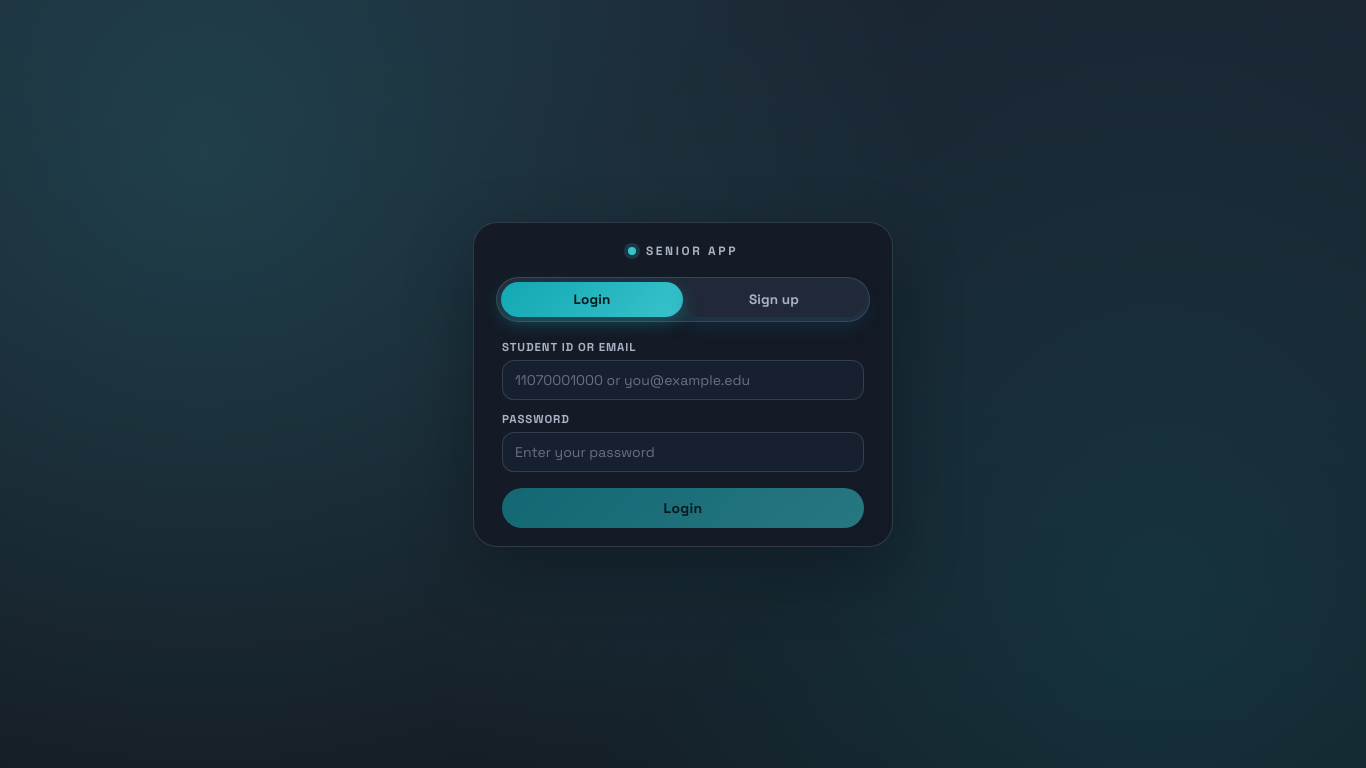
Scenario: Unified login page (issue #315) › shows a clear failure message when all email-based endpoints reject the credentials
Type "nobody@example.edu" into the field labelled "Student ID or Email" at (683, 380), box top-left (502, 360), bottom-right (864, 400)
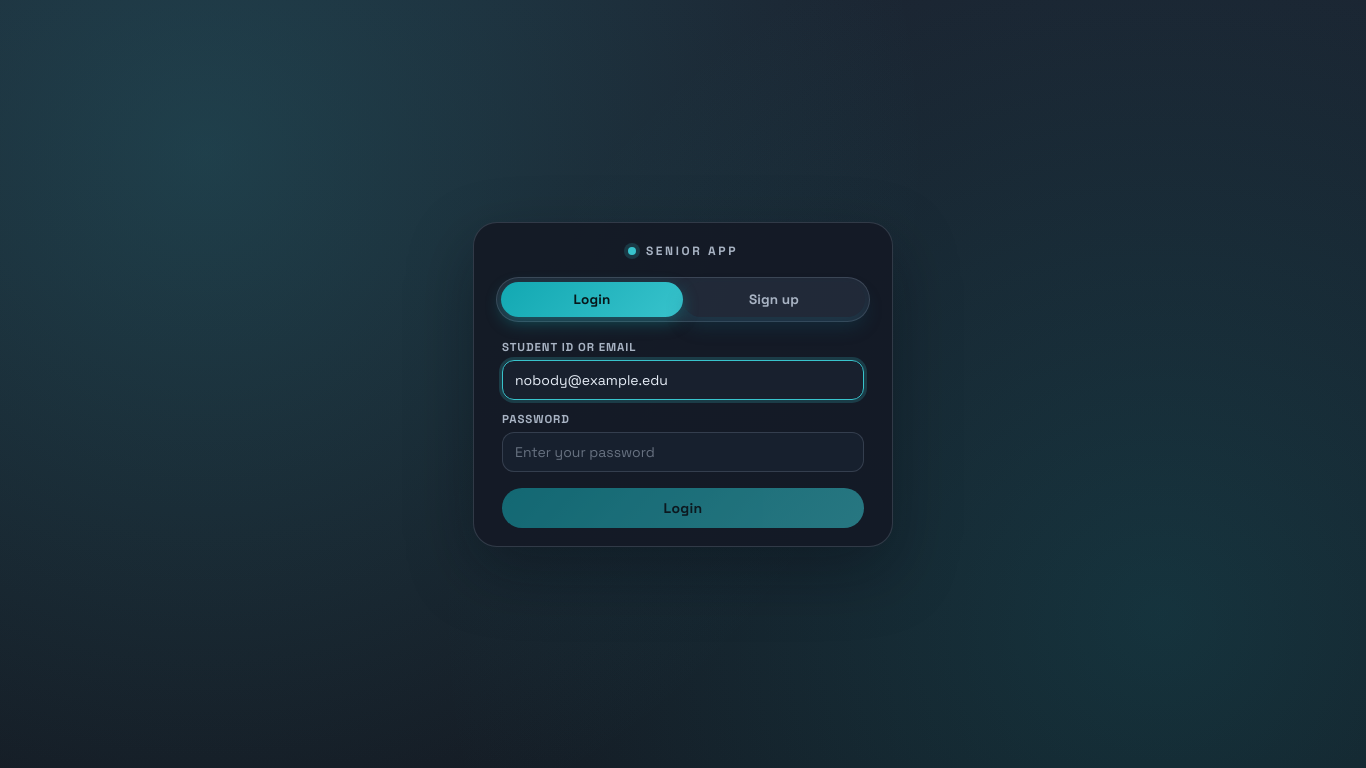
Type "pw-wrong" into the password field labelled "Password" at (683, 452), box top-left (502, 432), bottom-right (864, 472)
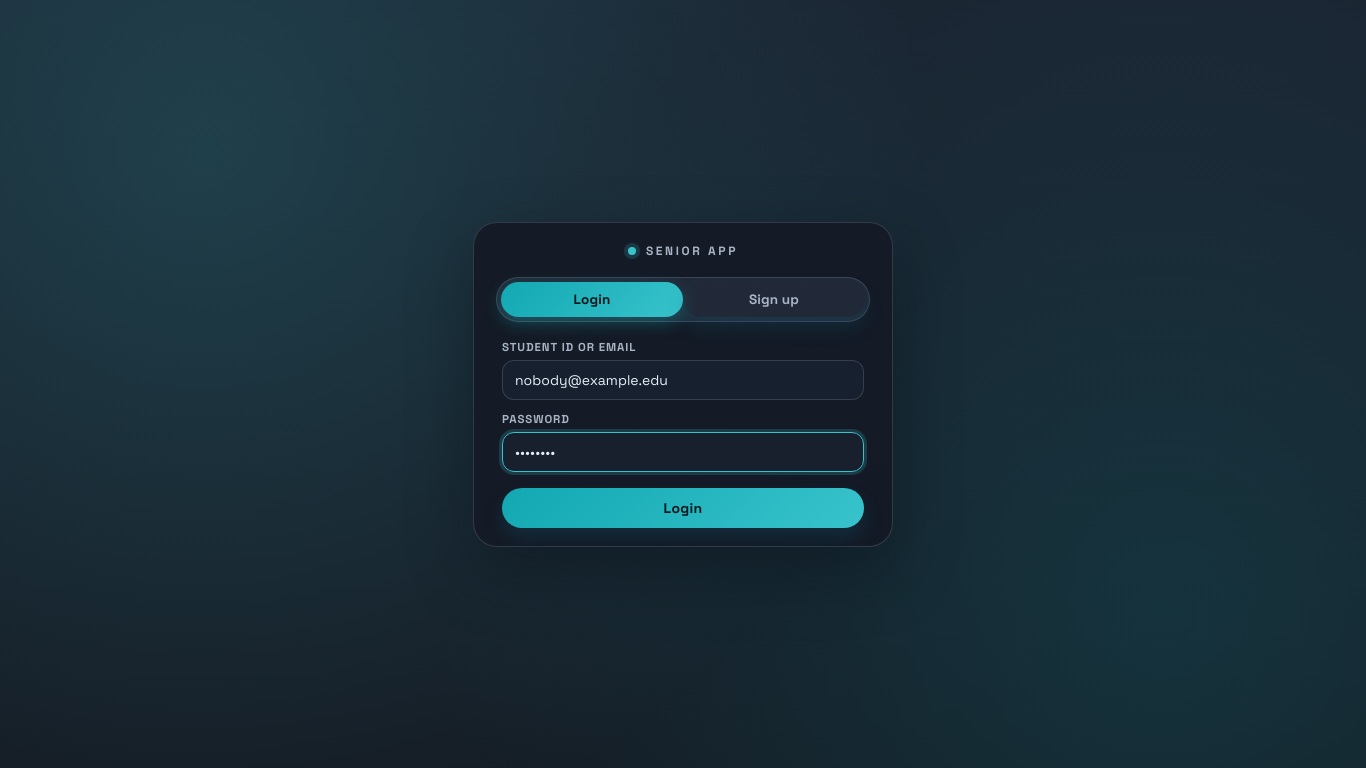
Click the button "Login" at (683, 508), box top-left (502, 488), bottom-right (864, 528)
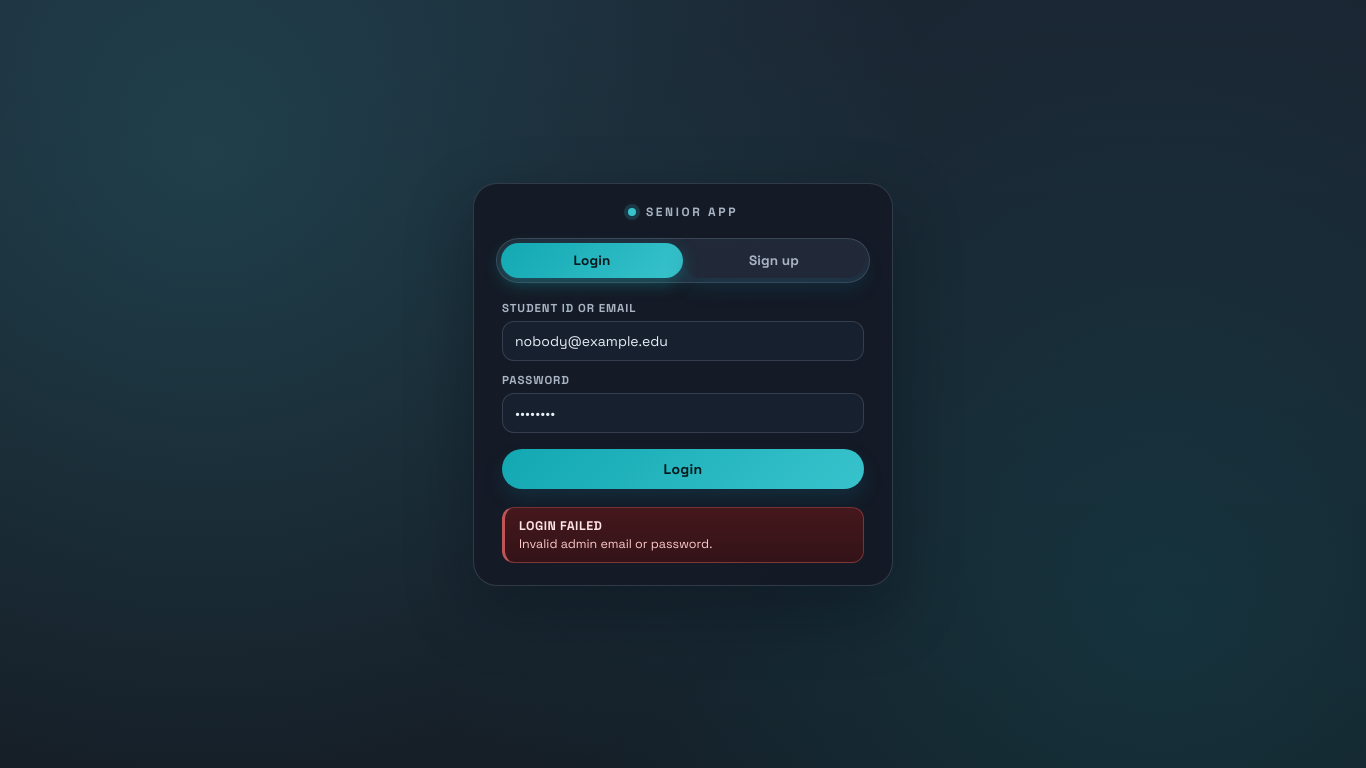
Now the heading "Login failed" is shown, box top-left (519, 518), bottom-right (602, 534)
